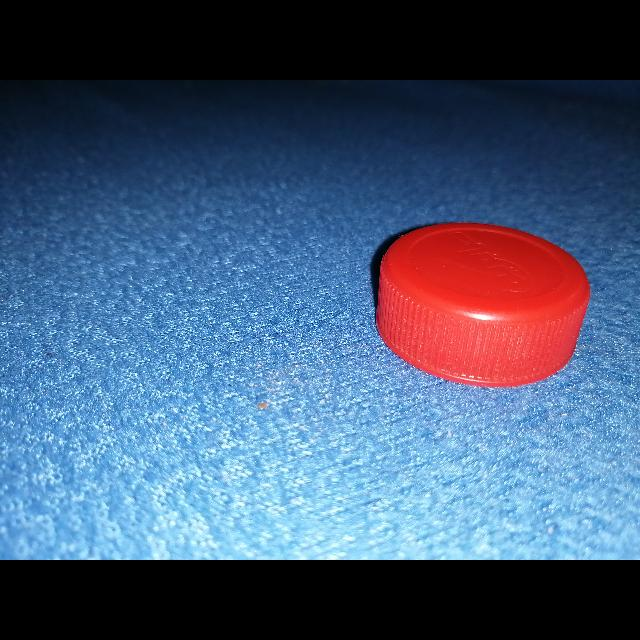plastic_bottle_cap: (376, 222, 592, 386)
